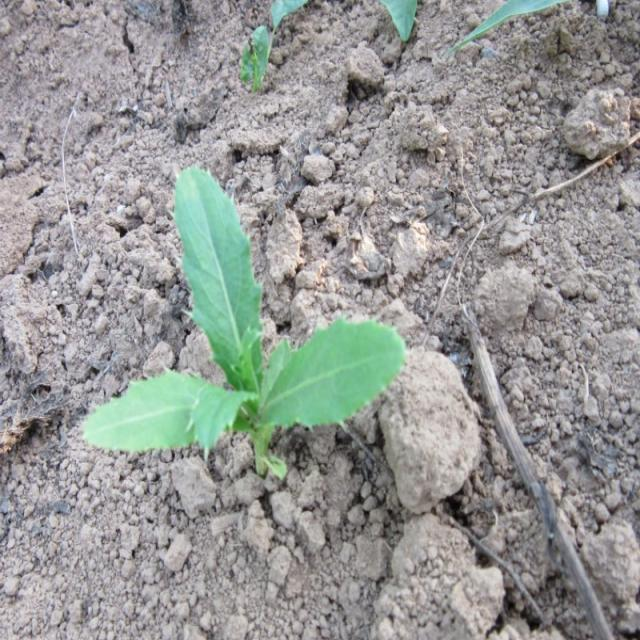cs: (80, 164, 409, 475)
